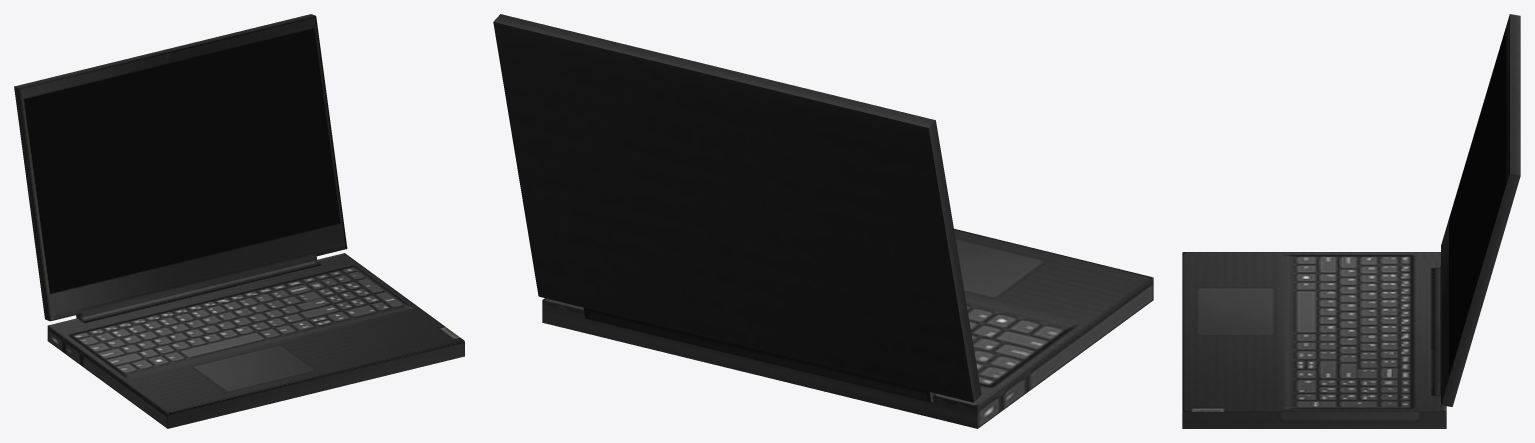
Rendered from PSX_Laptop.glb.
The picture shows the model from 3 angles, left to right: view 1: azimuth 30°, elevation 25°; view 2: azimuth 150°, elevation 25°; view 3: azimuth 270°, elevation 25°; orthographic projection. The views are drawn at different scales.
Visible parts, largest first — view 1: LaptopScreen_M_Laptop_0, LaptopKeyboard_M_Laptop_0; view 2: LaptopScreen_M_Laptop_0, LaptopKeyboard_M_Laptop_0; view 3: LaptopKeyboard_M_Laptop_0, LaptopScreen_M_Laptop_0.
Boxes of the visible parts, x1=… form: LaptopScreen_M_Laptop_0: x1=14, y1=14, x2=347, y2=321; LaptopKeyboard_M_Laptop_0: x1=47, y1=253, x2=464, y2=428; LaptopScreen_M_Laptop_0: x1=493, y1=14, x2=981, y2=402; LaptopKeyboard_M_Laptop_0: x1=542, y1=228, x2=1153, y2=428; LaptopKeyboard_M_Laptop_0: x1=1182, y1=252, x2=1446, y2=428; LaptopScreen_M_Laptop_0: x1=1440, y1=14, x2=1520, y2=406.
Bounding box in the file's own units: 0.5 × 0.3725 × 0.4478.
Materials: 1 (1 with a texture image).
